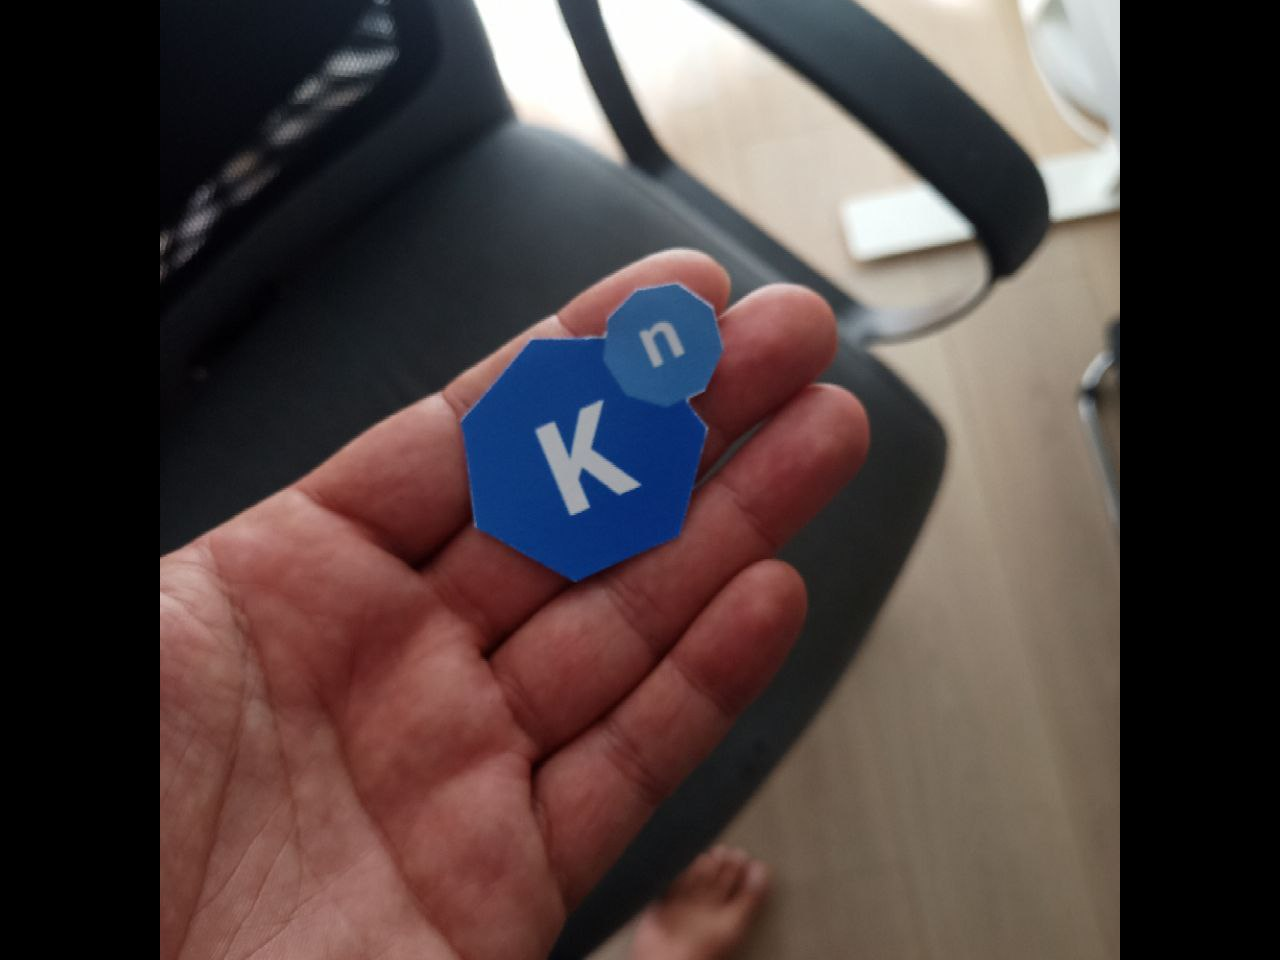knative: (460, 278, 729, 584)
